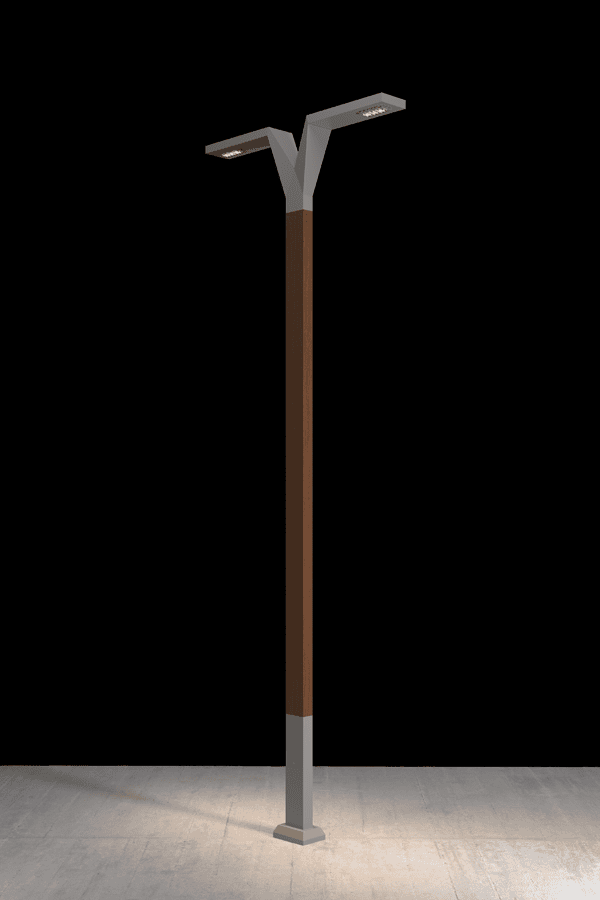light_pole: (259, 125, 344, 838)
